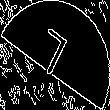L_SW: (34, 26, 76, 84)
